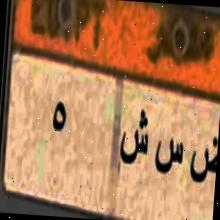5: (47, 91, 75, 145)
daad: (189, 134, 218, 191)
seen: (151, 131, 188, 189)
sheen: (118, 108, 154, 178)
